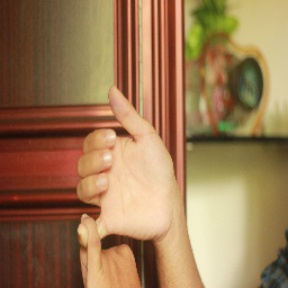S: (69, 84, 177, 288)
